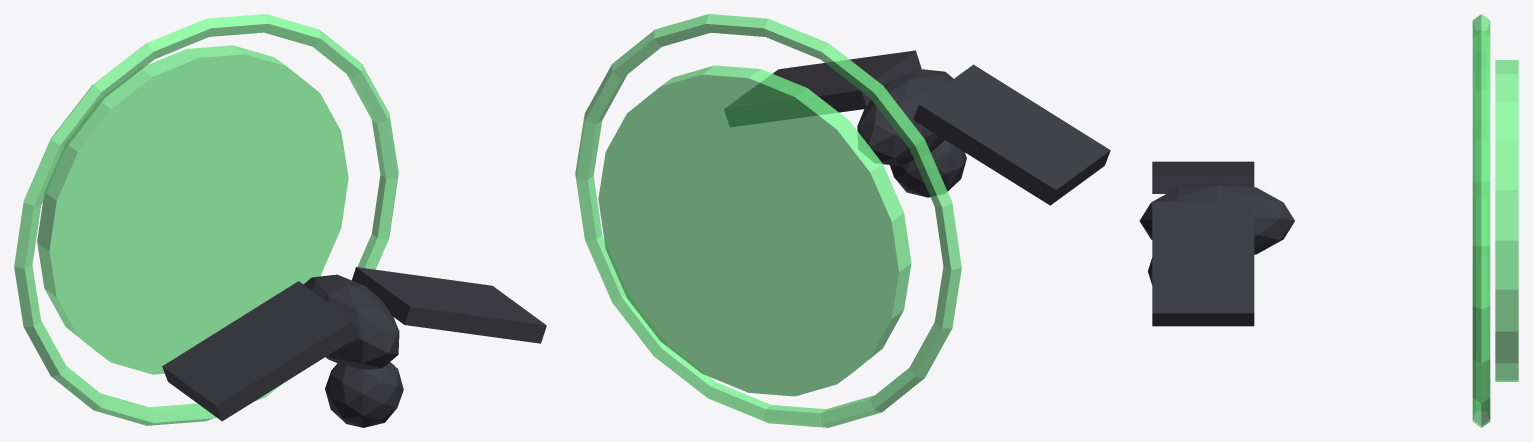
The model's file is 09_bat_critter.glb.
3 renders of one model, left to right at view 1: azimuth 30°, elevation 25°; view 2: azimuth 150°, elevation 25°; view 3: azimuth 270°, elevation 25°, orthographic. The views are drawn at different scales.
Parts seen in each view (by area): view 1: base_disc, base_ring, wing_l, wing_r, body, head; view 2: base_disc, base_ring, wing_l, wing_r, body, head; view 3: wing_r, base_ring, base_disc, body, wing_l.
Part boxes in pixels (<box>): base_disc: <box>37,45,348,374</box>; base_ring: <box>14,14,398,425</box>; wing_l: <box>162,281,358,421</box>; wing_r: <box>352,267,546,343</box>; body: <box>303,274,399,369</box>; head: <box>325,362,403,427</box>; base_disc: <box>598,65,911,396</box>; base_ring: <box>575,14,961,427</box>; wing_l: <box>913,64,1110,205</box>; wing_r: <box>724,50,921,126</box>; body: <box>857,69,953,165</box>; head: <box>890,140,966,197</box>; wing_r: <box>1152,201,1254,326</box>; base_ring: <box>1472,14,1490,427</box>; base_disc: <box>1495,60,1518,381</box>; body: <box>1139,182,1294,254</box>; wing_l: <box>1152,161,1254,193</box>.
Bounding box in the file's own units: 0.9 × 0.9 × 0.818.
